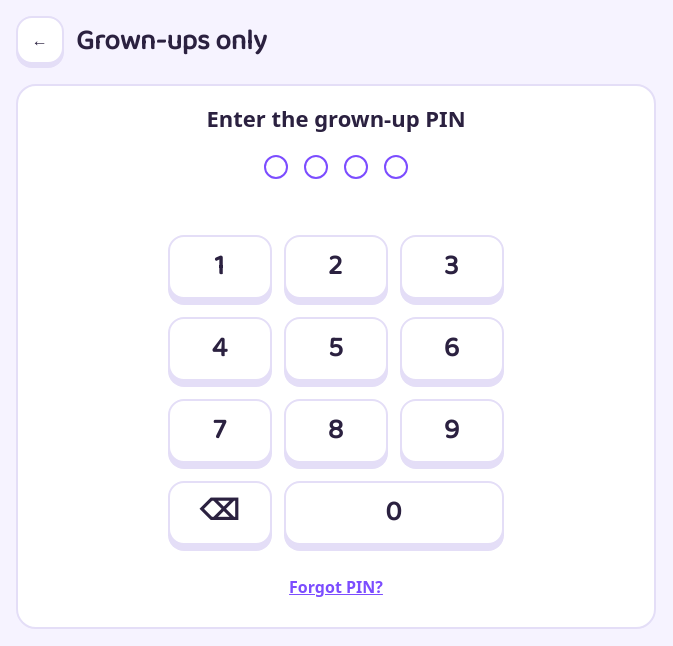
Test: grown-up gate (AC8) › a wrong PIN is refused and the gate stays
Click the button "1".
click(220, 267)  # box left=168, top=235, right=272, bottom=299
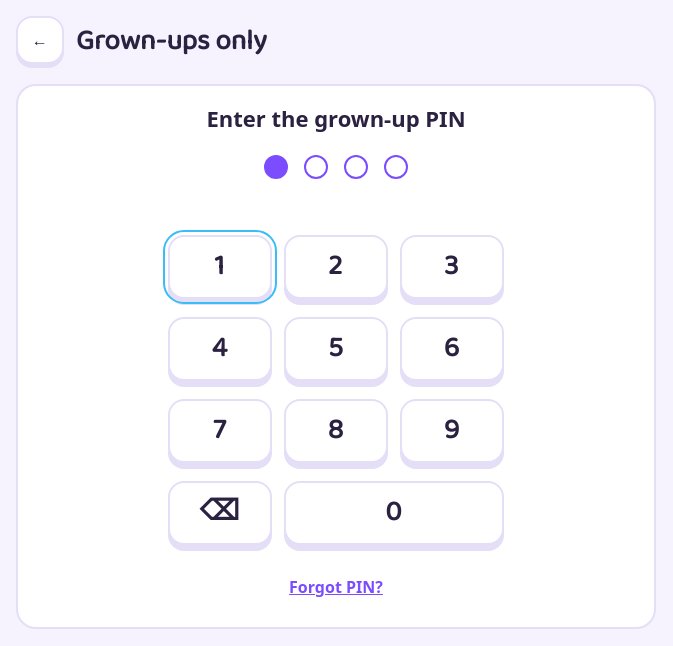
Click the button "1".
click(220, 267)  # box left=168, top=235, right=272, bottom=299
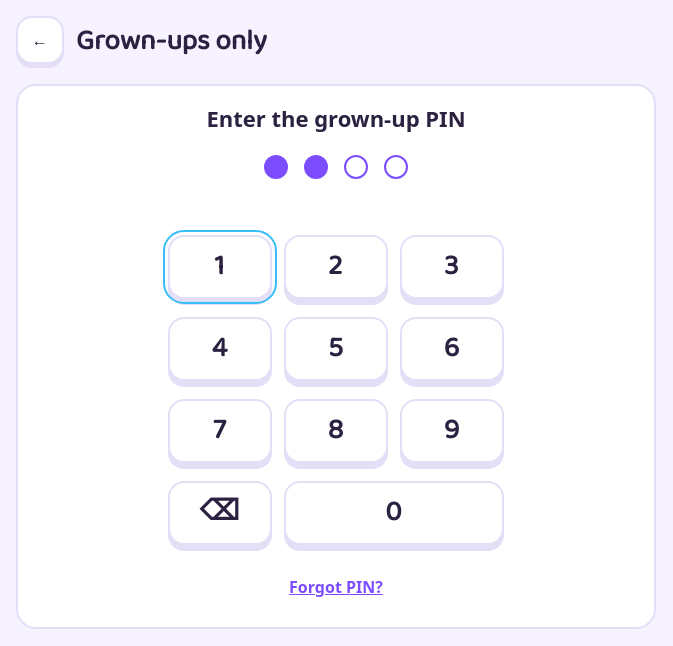
Click the button "1".
click(220, 267)  # box left=168, top=235, right=272, bottom=299
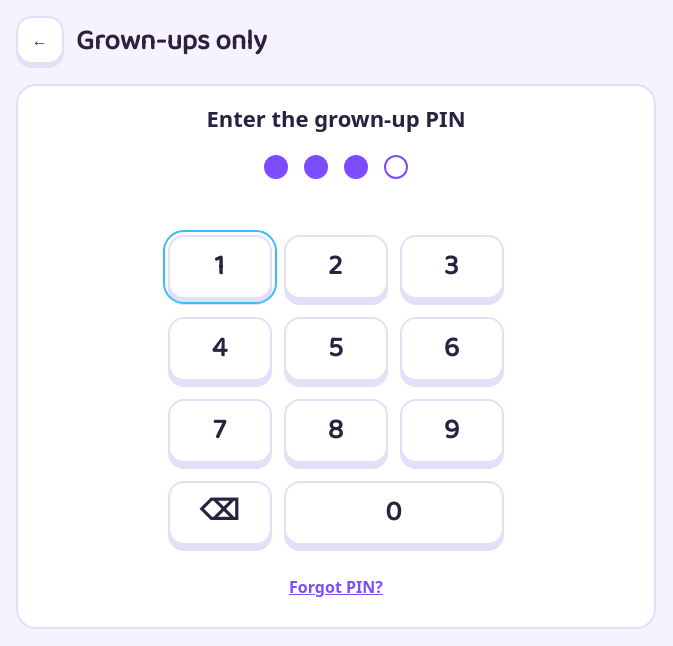
Click the button "1".
click(220, 267)  # box left=168, top=235, right=272, bottom=299
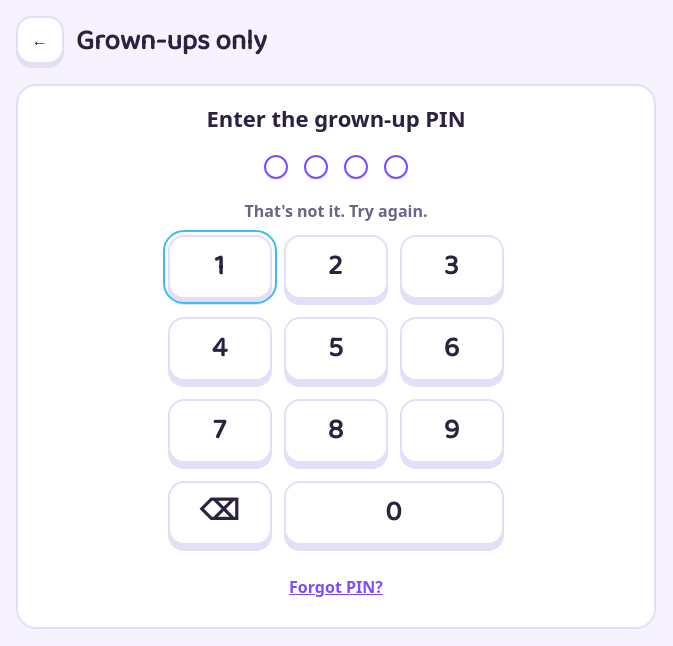
Expected: the heading "Enter the grown-up PIN" is shown, left=206, top=102, right=466, bottom=135
Result: the text "That's not it. Try again." is shown at left=244, top=199, right=428, bottom=223
